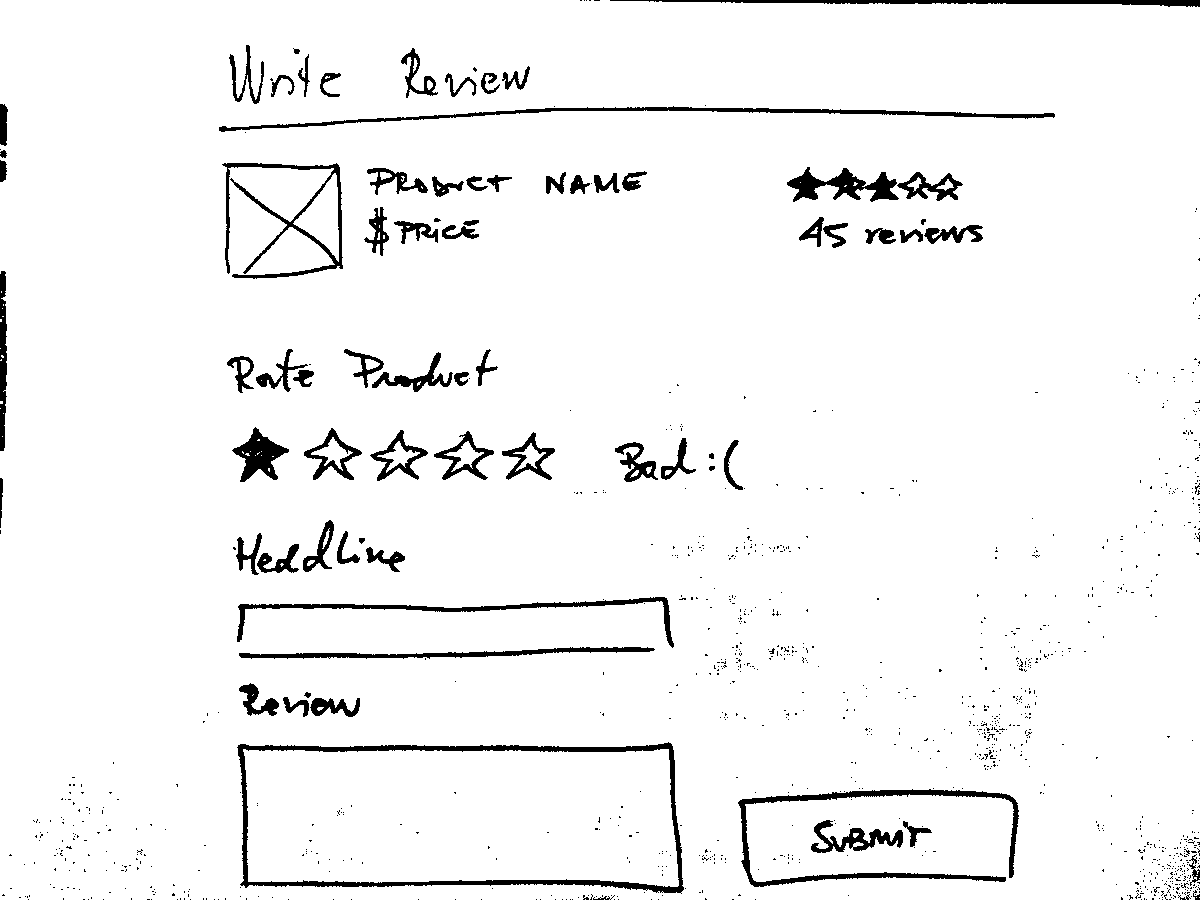Button: (735, 785, 1021, 891)
Image: (221, 157, 346, 284)
Textbox: (235, 595, 676, 664)
